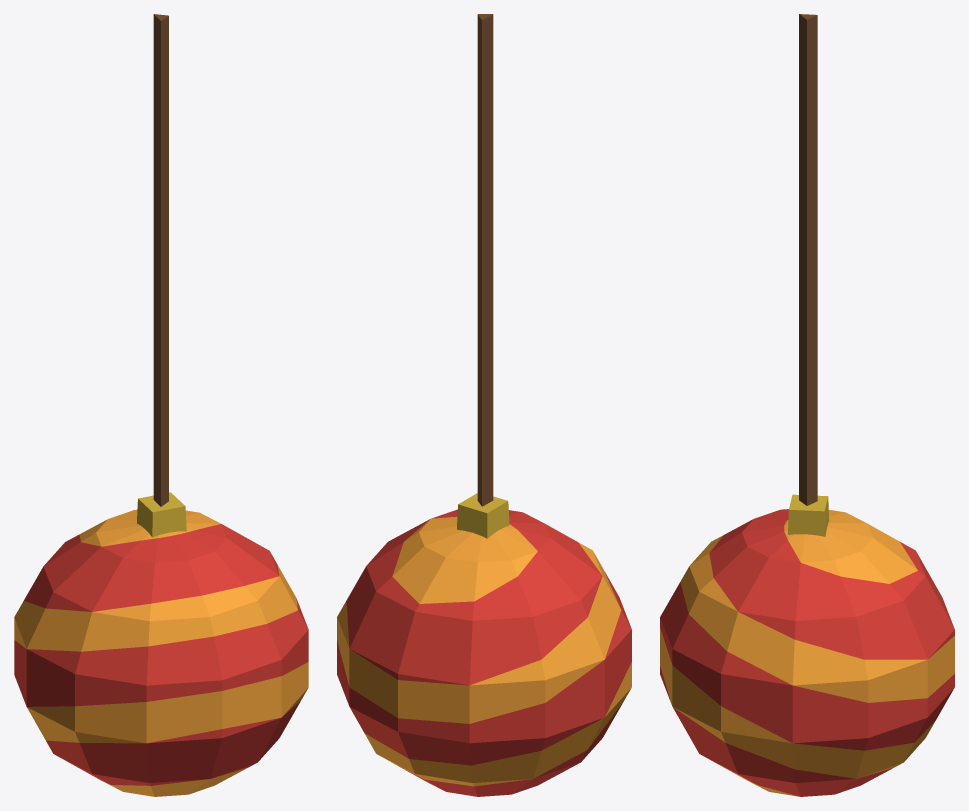
Rendered from tree-christmas-ball.glb.
The picture shows the model from 3 angles, left to right: view 1: azimuth 30°, elevation 25°; view 2: azimuth 150°, elevation 25°; view 3: azimuth 270°, elevation 25°; orthographic projection.
Visible parts, largest first — view 1: tree_christmas_ball; view 2: tree_christmas_ball; view 3: tree_christmas_ball.
Boxes of the visible parts, box(x1,y1,x2,y2) form: tree_christmas_ball: box(14, 14, 308, 796); tree_christmas_ball: box(337, 14, 631, 796); tree_christmas_ball: box(660, 14, 954, 796).
Bounding box in the file's own units: 0.0806 × 0.231 × 0.0806.
Materials: 1 (1 with a texture image).
